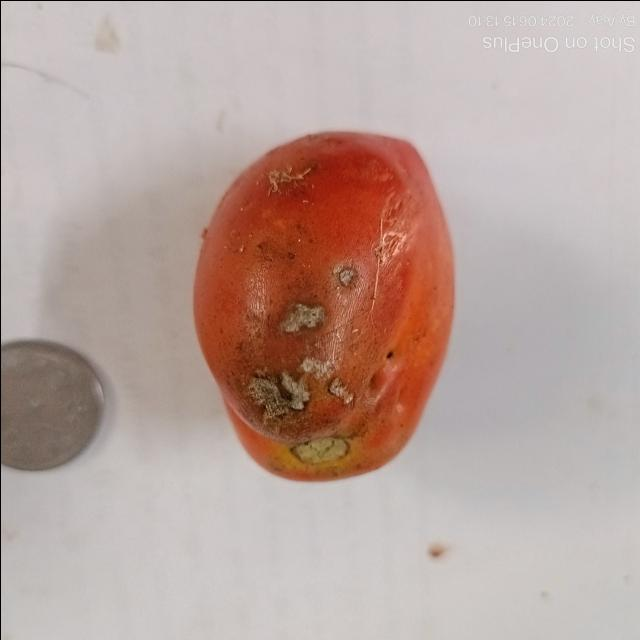Bacterial_Spot: (238, 257, 360, 435)
